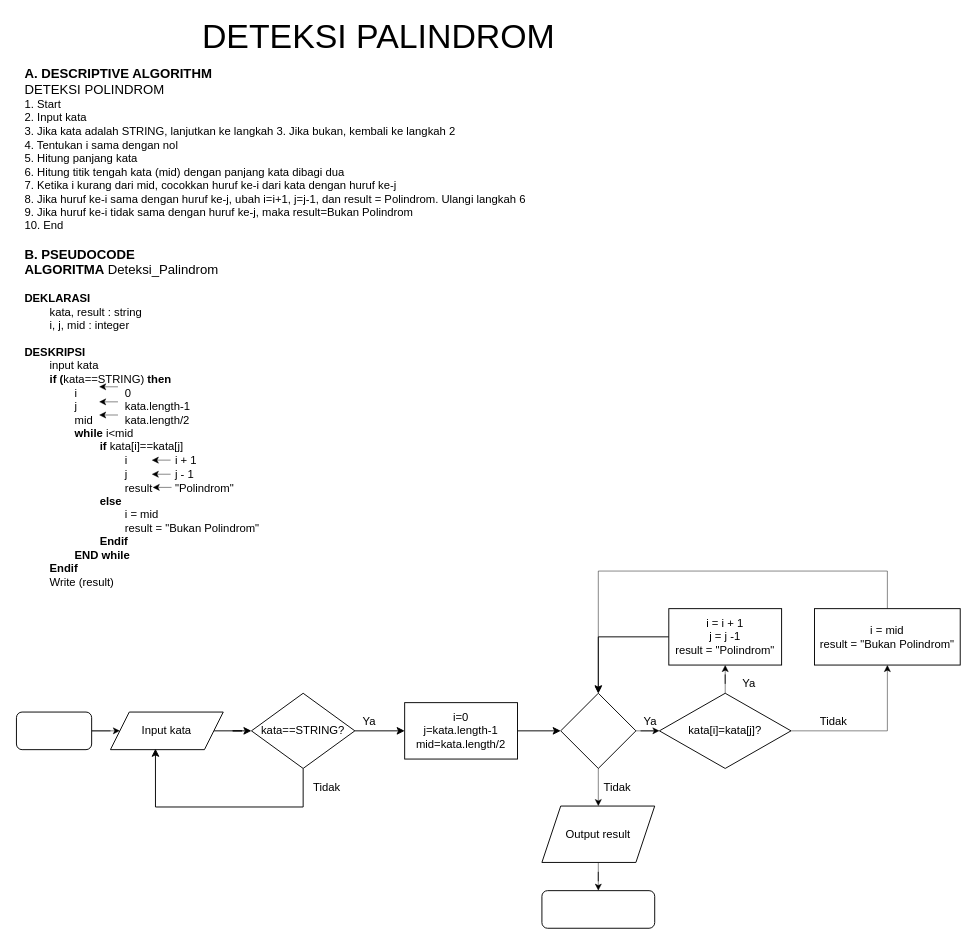
This 977x945 diagram has some shape labels left out. The shapes that lost their labels are listed below. From the top down, each one's centre as x and y in pixels, then its label:
At [54,730]: "Start".
At [598,730]: "i<mid?".
At [598,909]: "End".
